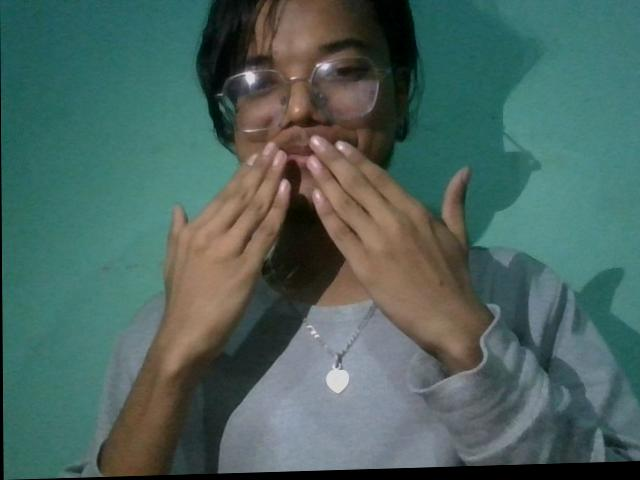Thank You: (118, 90, 527, 432)
